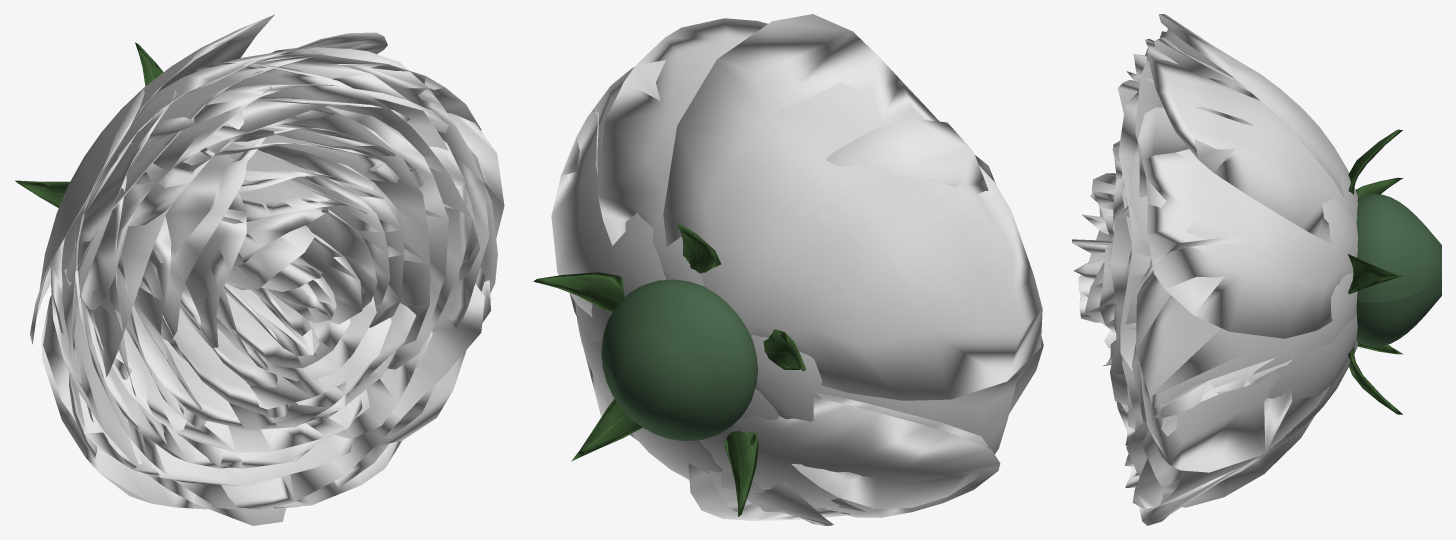
File: rose-1.glb
The picture shows the model from 3 angles, left to right: view 1: azimuth 30°, elevation 25°; view 2: azimuth 150°, elevation 25°; view 3: azimuth 270°, elevation 25°; orthographic projection. The views are drawn at different scales.
Visible parts, largest first — view 1: Rose_1_balanced_Petals, Rose_1_balanced_Sepals; view 2: Rose_1_balanced_Petals, Rose_1_balanced_Receptacle, Rose_1_balanced_Sepals; view 3: Rose_1_balanced_Petals, Rose_1_balanced_Receptacle, Rose_1_balanced_Sepals.
Part boxes in pixels (x1,y1,x2,y2): Rose_1_balanced_Petals: (30, 14, 504, 525); Rose_1_balanced_Sepals: (15, 42, 163, 207); Rose_1_balanced_Petals: (551, 14, 1043, 525); Rose_1_balanced_Receptacle: (601, 279, 757, 441); Rose_1_balanced_Sepals: (533, 224, 805, 516); Rose_1_balanced_Petals: (1072, 14, 1358, 525); Rose_1_balanced_Receptacle: (1356, 194, 1441, 346); Rose_1_balanced_Sepals: (1348, 129, 1403, 414).
Bounding box in the file's own units: 0.6898 × 0.7122 × 0.5065.
3 materials, 2 textured.
